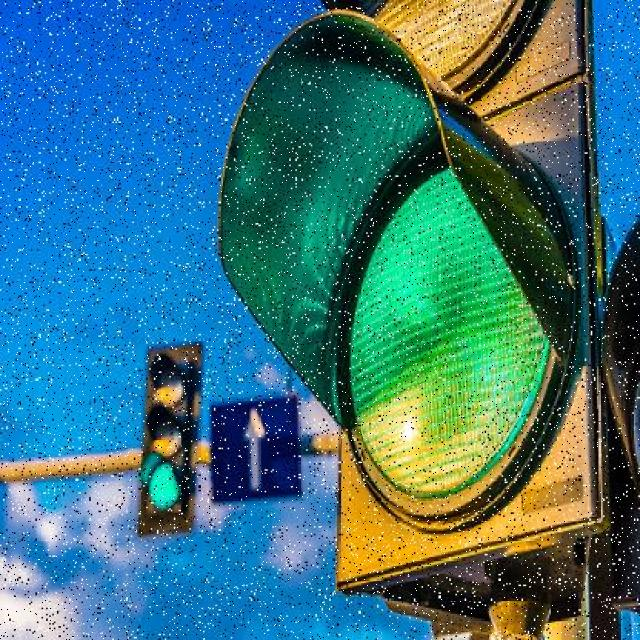green-light: (206, 45, 627, 579), (128, 342, 218, 532)
